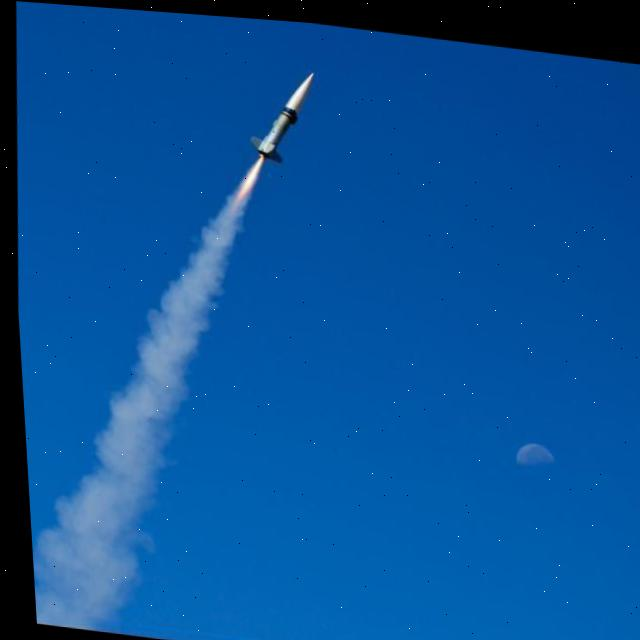missile: (236, 53, 322, 168)
